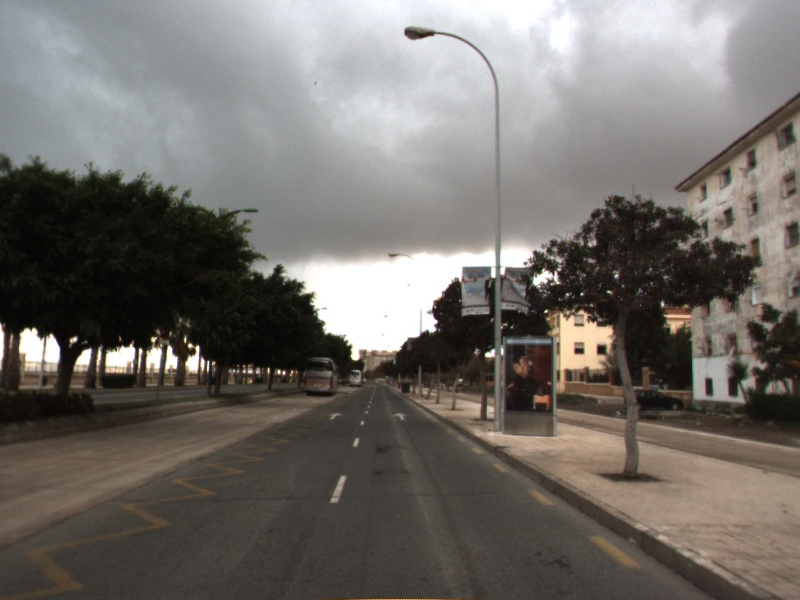STRAIGHT: (391, 411, 412, 423), (325, 411, 346, 421)
